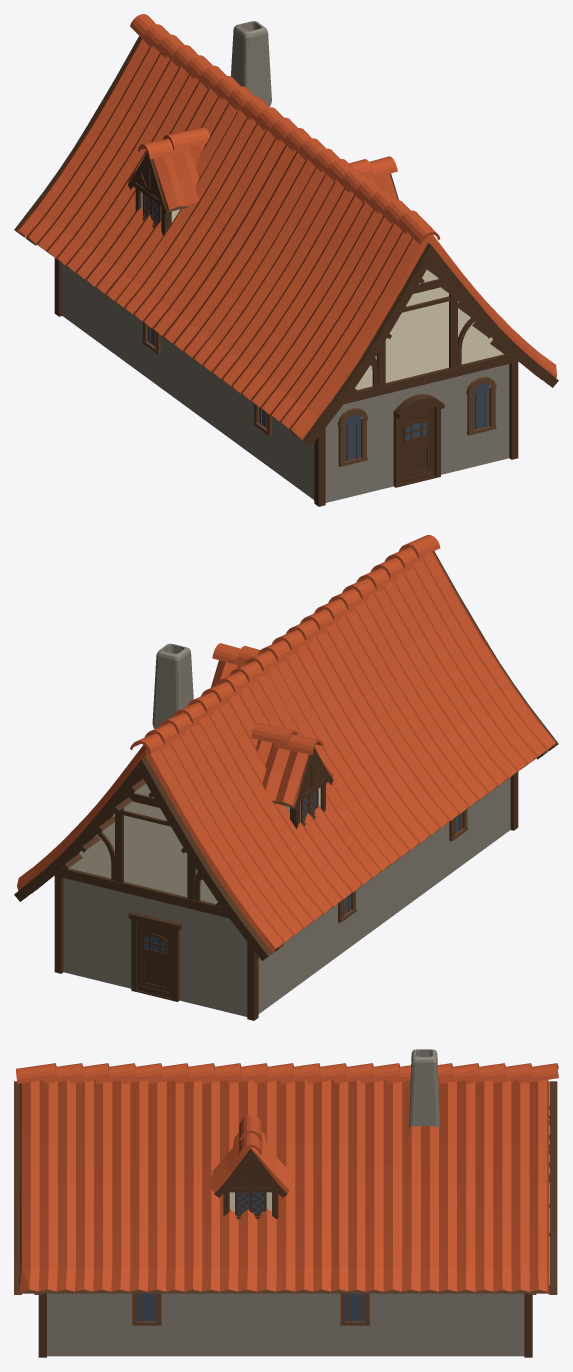
File: longhouse.obj
3 renders of one model, top to bottom at view 1: azimuth 30°, elevation 25°; view 2: azimuth 150°, elevation 25°; view 3: azimuth 270°, elevation 25°, orthographic. The views are drawn at different scales.
Bounding box in the file's own units: 8.25 × 8.8 × 15.71.
